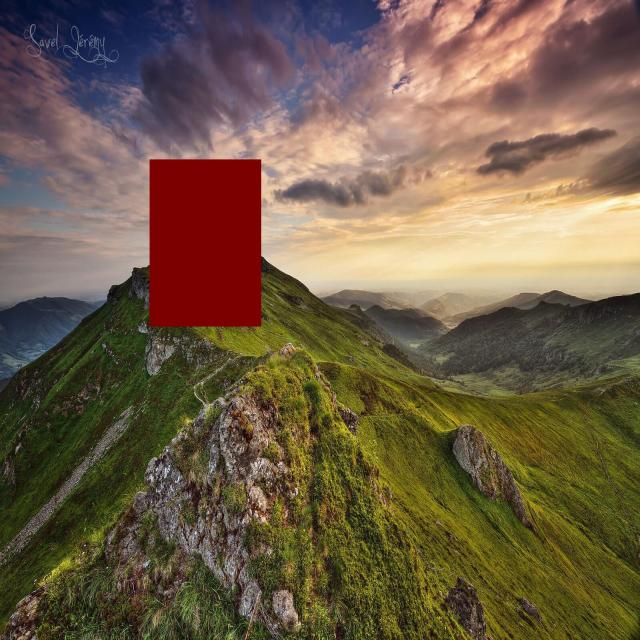RedSquare: (145, 155, 268, 336)
